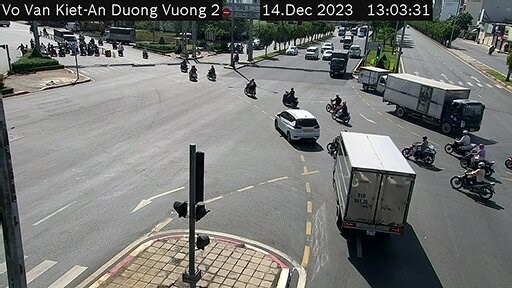car: (272, 108, 321, 147), (283, 43, 296, 59), (308, 43, 317, 62)
motorbike: (463, 159, 494, 200), (410, 135, 439, 163), (466, 141, 497, 164), (454, 131, 477, 152), (334, 98, 354, 120), (328, 91, 348, 110), (285, 88, 302, 107), (185, 64, 198, 86), (243, 74, 254, 100), (204, 63, 216, 85)
truck: (322, 130, 432, 241), (380, 68, 486, 135), (361, 67, 392, 104), (328, 51, 350, 81)
